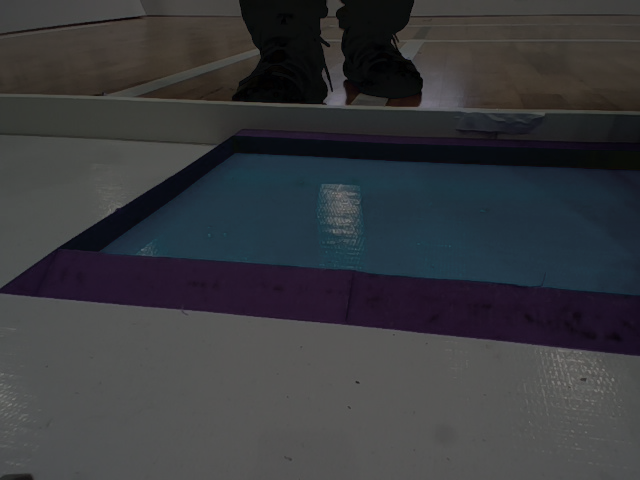kuang: (2, 128, 639, 357)
